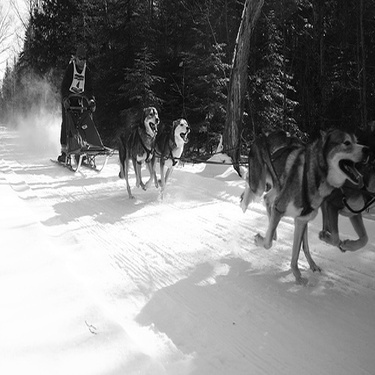dog: (230, 126, 372, 285), (310, 133, 372, 257), (115, 103, 163, 201), (141, 117, 193, 188)
